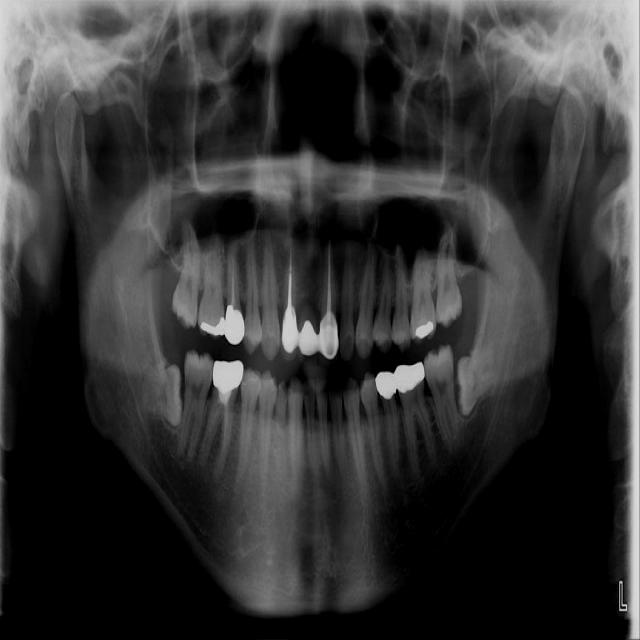Crown: (279, 303, 340, 372), (212, 360, 244, 394), (394, 361, 425, 393), (224, 305, 245, 345), (375, 370, 396, 400)
Filling: (200, 314, 226, 338), (414, 320, 435, 339)
Root Canal Treatment: (326, 248, 331, 314), (231, 245, 236, 307), (288, 244, 292, 302), (218, 444, 225, 468), (225, 405, 228, 444)
impacted tooth: (453, 344, 498, 416), (132, 364, 182, 426)
